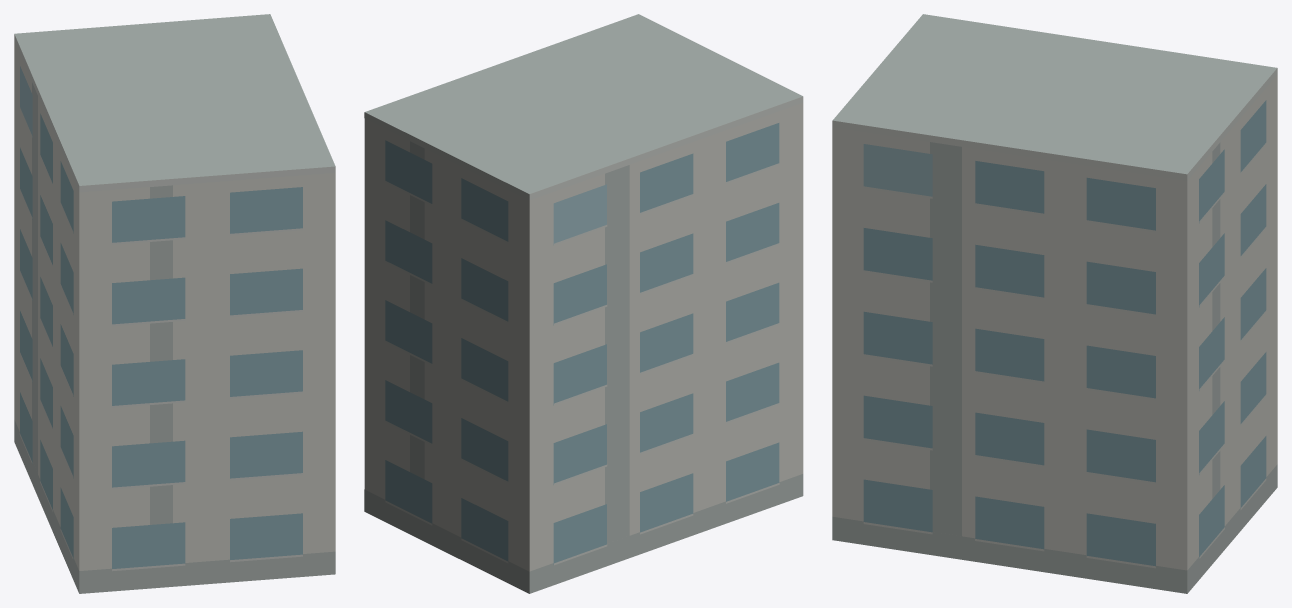
Rendered from residential-5d30c3ce-4b9d-426a-b890-388e8ecbc8a4.glb.
The picture shows the model from 3 angles, left to right: view 1: azimuth 30°, elevation 25°; view 2: azimuth 150°, elevation 25°; view 3: azimuth 270°, elevation 25°; orthographic projection. The views are drawn at different scales.
Visible parts, largest first — view 1: residential-5d30c3ce-4b9d-426a-b890-388e8ecbc8a4.tmp; view 2: residential-5d30c3ce-4b9d-426a-b890-388e8ecbc8a4.tmp; view 3: residential-5d30c3ce-4b9d-426a-b890-388e8ecbc8a4.tmp.
Boxes of the visible parts, box(x1,y1,x2,y2) form: residential-5d30c3ce-4b9d-426a-b890-388e8ecbc8a4.tmp: box(14, 14, 335, 593); residential-5d30c3ce-4b9d-426a-b890-388e8ecbc8a4.tmp: box(364, 14, 803, 593); residential-5d30c3ce-4b9d-426a-b890-388e8ecbc8a4.tmp: box(832, 14, 1277, 593).
Size of the model in its own units: 12.51 by 15.25 by 14.67.
